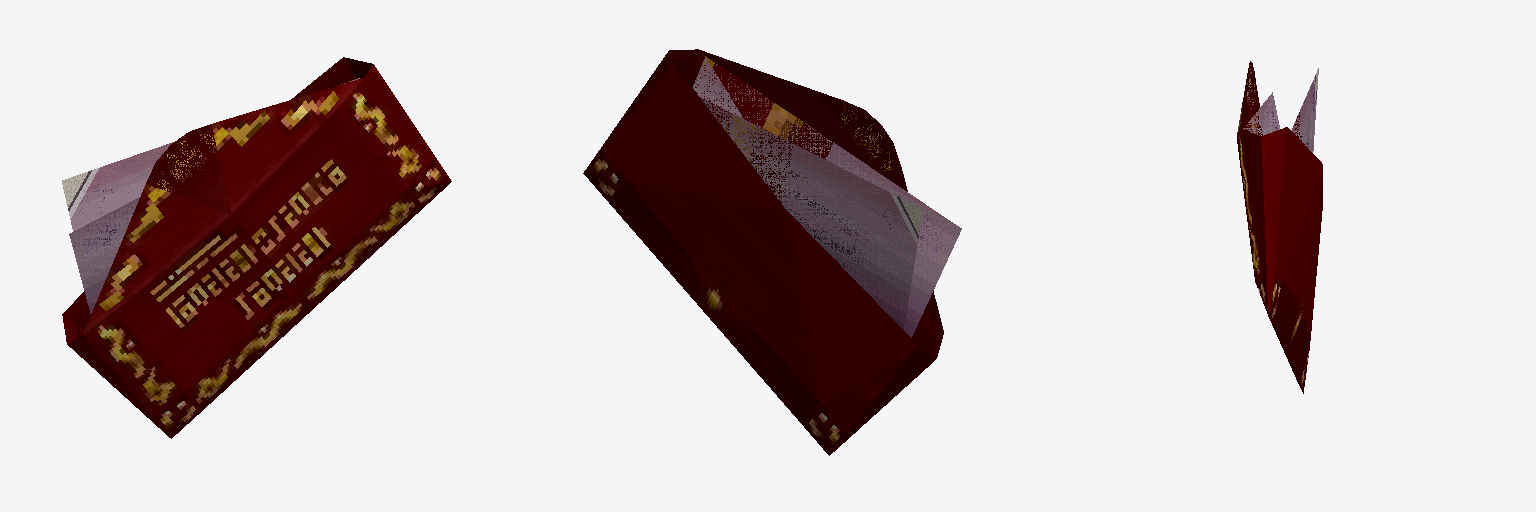
The picture shows the model from 3 angles: view 1: azimuth 30°, elevation 25°; view 2: azimuth 150°, elevation 25°; view 3: azimuth 270°, elevation 25°; orthographic projection.
Parts seen in each view (by area): view 1: node_[number redacted]; view 2: node_[number redacted]; view 3: node_[number redacted].
Boxes of the visible parts, x1=… form: node_[number redacted]: x1=62, y1=57, x2=451, y2=438; node_[number redacted]: x1=583, y1=49, x2=961, y2=455; node_[number redacted]: x1=1237, y1=61, x2=1322, y2=393.
Bounding box in the file's own units: 27.18 × 23.7 × 5.37.
Materials: 1 (1 with a texture image).